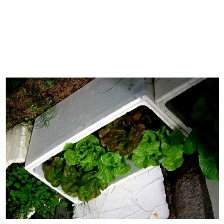foam_box: (21, 77, 199, 207), (5, 119, 64, 219), (151, 77, 218, 151)
